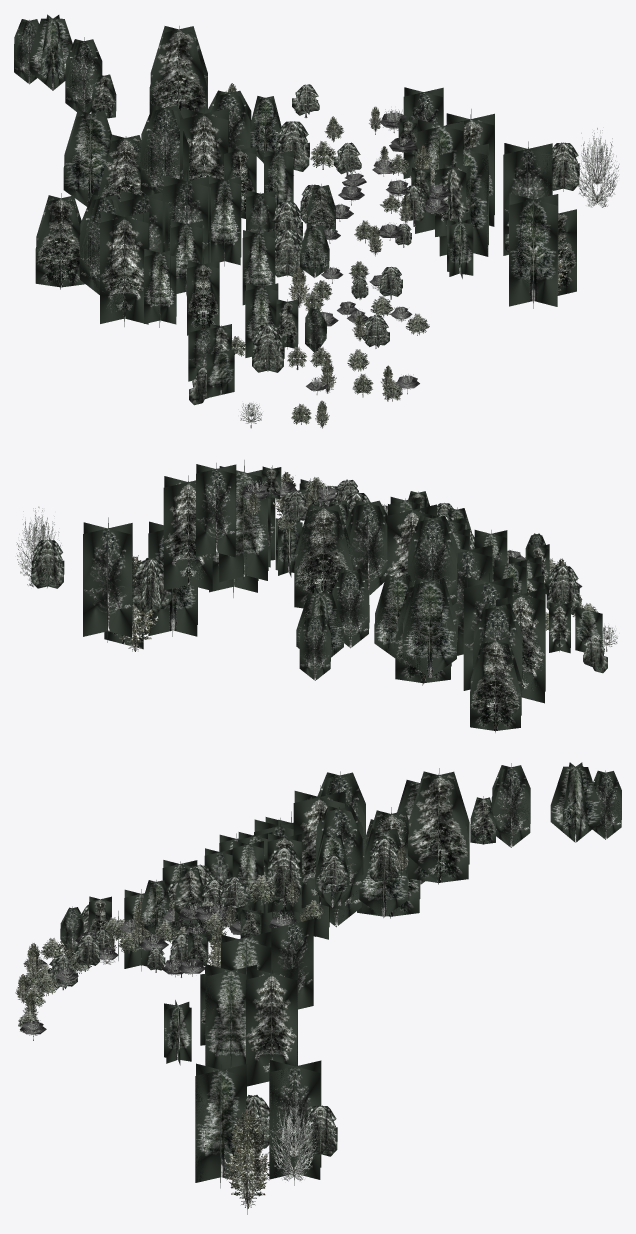
3 views of the same model, one above another, from view 1: azimuth 30°, elevation 25°; view 2: azimuth 150°, elevation 25°; view 3: azimuth 270°, elevation 25° (orthographic). The views are drawn at different scales.
Visible parts, largest first — view 1: mesh5, mesh4, mesh6, mesh2, mesh0, mesh3, mesh10, mesh1, mesh7; view 2: mesh6, mesh4, mesh5, mesh2, mesh3, mesh1, mesh10, mesh0; view 3: mesh5, mesh4, mesh6, mesh2, mesh1, mesh3, mesh0, mesh10, mesh7.
Part boxes in pixels (left/top/right/bottom): mesh5: left=29, top=14, right=558, bottom=398; mesh4: left=35, top=26, right=576, bottom=354; mesh6: left=14, top=19, right=552, bottom=381; mesh2: left=189, top=84, right=579, bottom=405; mesh0: left=231, top=124, right=428, bottom=424; mesh3: left=240, top=109, right=619, bottom=423; mesh10: left=306, top=112, right=449, bottom=390; mesh1: left=228, top=83, right=568, bottom=428; mesh7: left=292, top=125, right=429, bottom=421; mesh6: left=83, top=463, right=545, bottom=690; mesh4: left=104, top=465, right=570, bottom=732; mesh5: left=148, top=460, right=602, bottom=677; mesh2: left=31, top=479, right=607, bottom=673; mesh3: left=16, top=480, right=617, bottom=646; mesh1: left=118, top=472, right=582, bottom=651; mesh10: left=240, top=481, right=582, bottom=587; mesh0: left=277, top=477, right=598, bottom=630; mesh5: left=118, top=762, right=600, bottom=1188; mesh4: left=89, top=768, right=495, bottom=1214; mesh6: left=60, top=763, right=621, bottom=1185; mesh2: left=48, top=838, right=399, bottom=1158; mesh1: left=15, top=846, right=408, bottom=1208; mesh3: left=24, top=901, right=317, bottom=1181; mesh0: left=18, top=875, right=322, bottom=1032; mesh10: left=20, top=903, right=296, bottom=1034; mesh7: left=20, top=904, right=323, bottom=1027.
Bounding box in the file's own units: 101 × 49.1 × 92.74.
